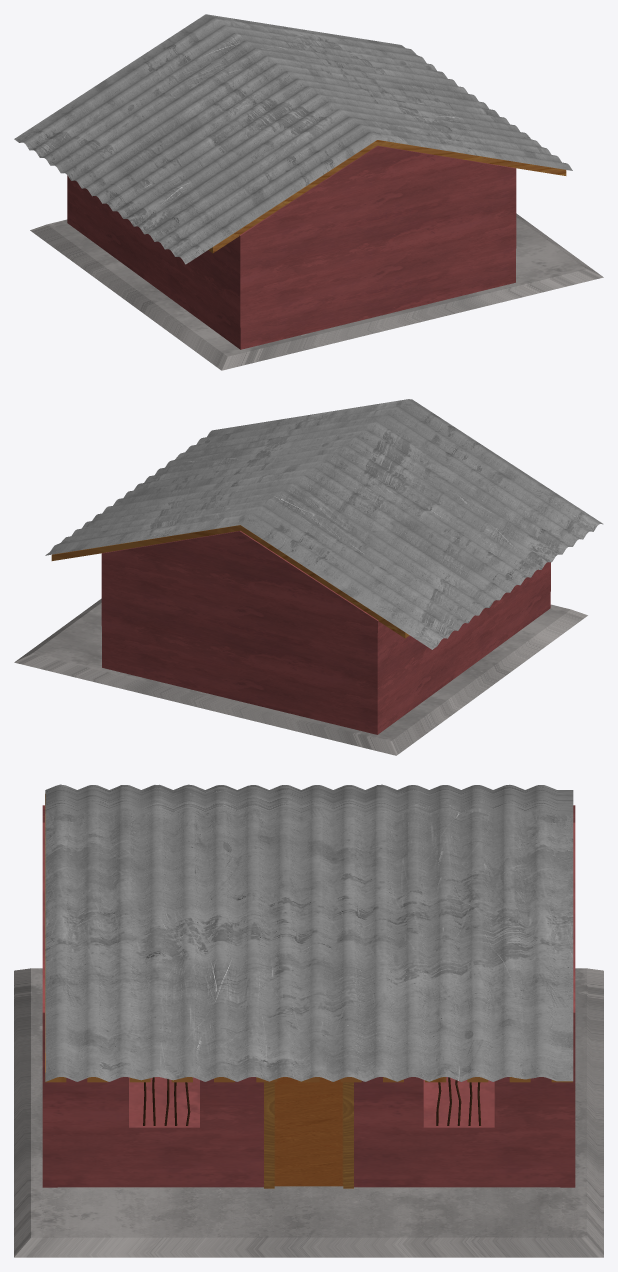
Rendered from Rumah1.fbx.
The picture shows the model from 3 angles, top to bottom: view 1: azimuth 30°, elevation 25°; view 2: azimuth 150°, elevation 25°; view 3: azimuth 270°, elevation 25°; orthographic projection. The views are drawn at different scales.
Visible parts, largest first — view 1: Floor; view 2: Floor; view 3: Floor.
Boxes of the visible parts, <box> form: Floor: <box>14,14,603,370</box>; Floor: <box>14,399,603,755</box>; Floor: <box>14,784,603,1257</box>.
Bounding box in the file's own units: 470 × 205 × 383.
